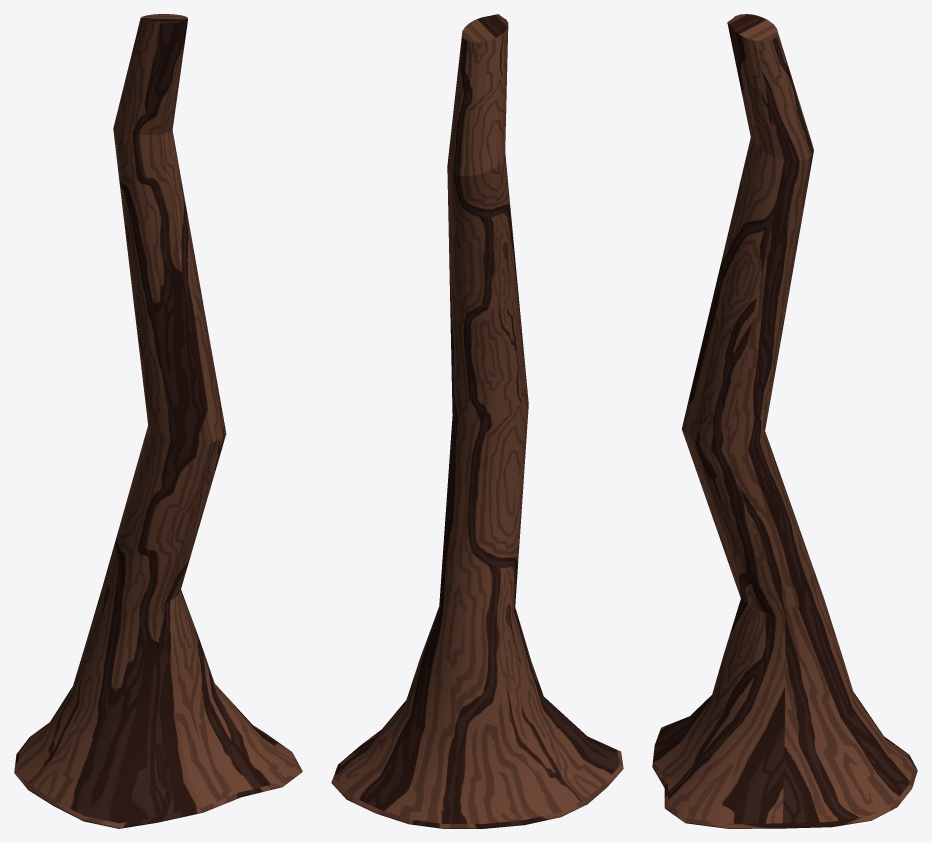
File: Tree 6.fbx
3 views of the same model, side by side, from view 1: azimuth 30°, elevation 25°; view 2: azimuth 150°, elevation 25°; view 3: azimuth 270°, elevation 25° (orthographic). The views are drawn at different scales.
Visible parts, largest first — view 1: Pines_7; view 2: Pines_7; view 3: Pines_7.
Boxes of the visible parts, box(x1,y1,x2,y2) form: Pines_7: box(14, 14, 302, 828); Pines_7: box(331, 14, 623, 828); Pines_7: box(652, 14, 917, 828).
Bounding box in the file's own units: 5.4 × 16.58 × 5.3.
